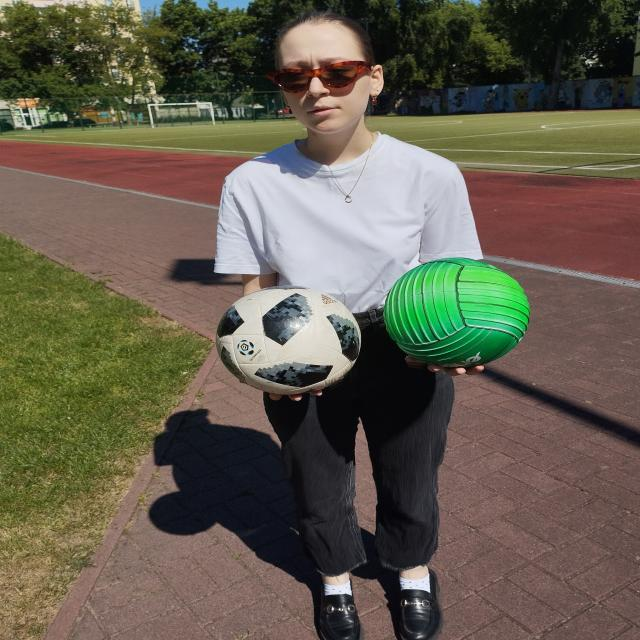nozna: (215, 285, 362, 395)
zielona: (384, 258, 530, 369)
